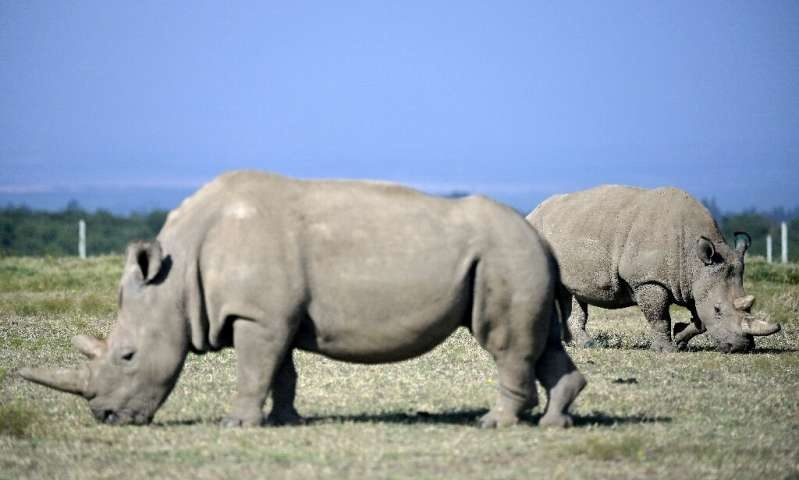rhino: (18, 168, 589, 433), (526, 180, 780, 357)
